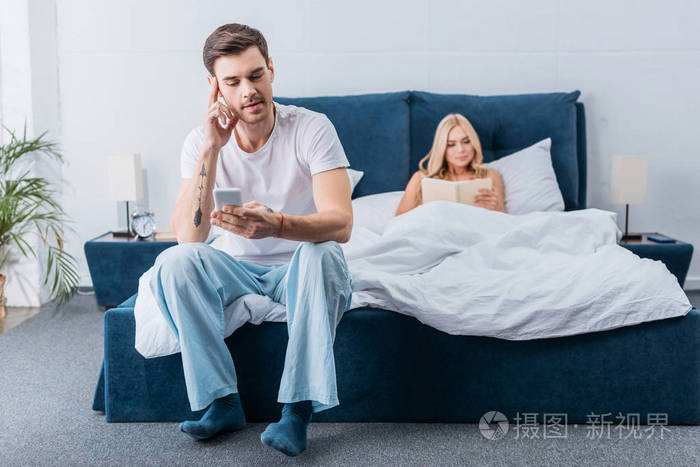reading: (209, 188, 288, 241)
